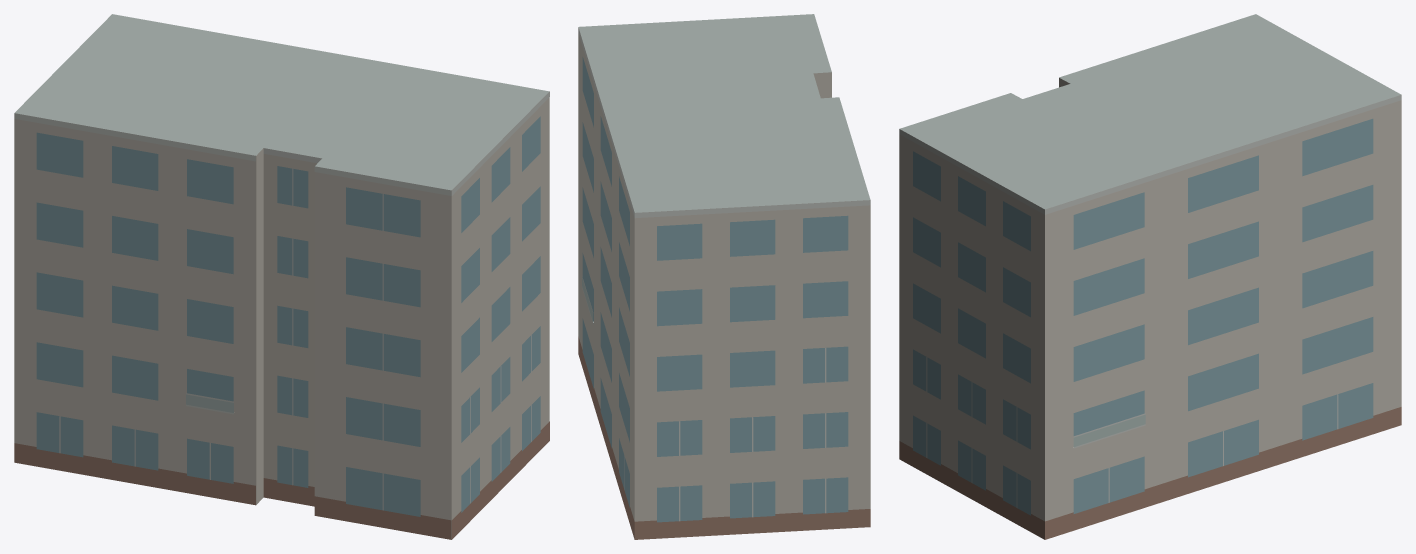
The model's file is survey-upis-32633709.glb.
The picture shows the model from 3 angles, left to right: view 1: azimuth 30°, elevation 25°; view 2: azimuth 150°, elevation 25°; view 3: azimuth 270°, elevation 25°; orthographic projection. The views are drawn at different scales.
Parts seen in each view (by area): view 1: survey-upis-32633709.tmp; view 2: survey-upis-32633709.tmp; view 3: survey-upis-32633709.tmp.
Part boxes in pixels (x1,y1,x2,y2): survey-upis-32633709.tmp: [14, 14, 549, 539]; survey-upis-32633709.tmp: [578, 14, 870, 539]; survey-upis-32633709.tmp: [899, 14, 1401, 539].
Size of the model in its own units: 19.05 by 15 by 20.68.
